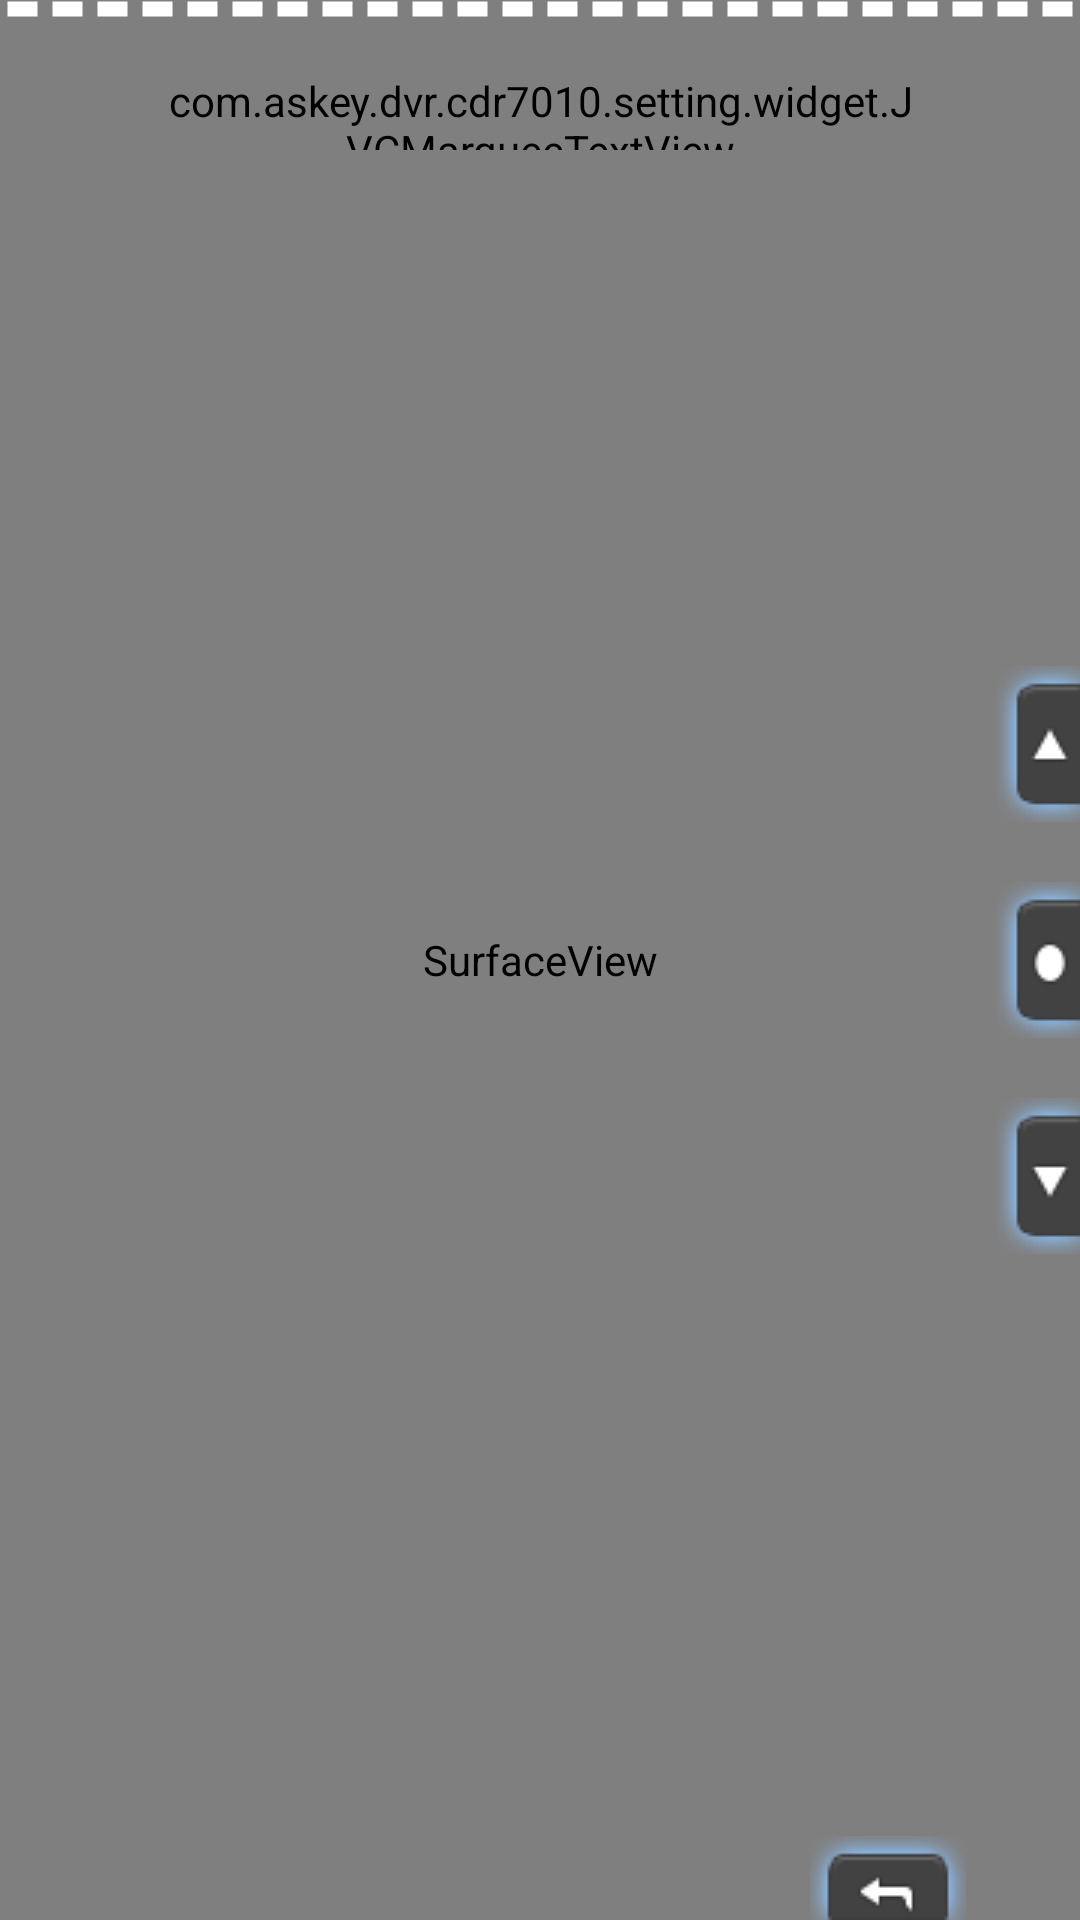

Named icons in this screenshot (1080 x 1920) and their centers, (x=x, y=y):
tag menu main back: (x=888, y=1880)
tag menu main enter: (x=1041, y=960)
tag menu main movedown: (x=1041, y=1176)
tag menu main moveup: (x=1041, y=744)
